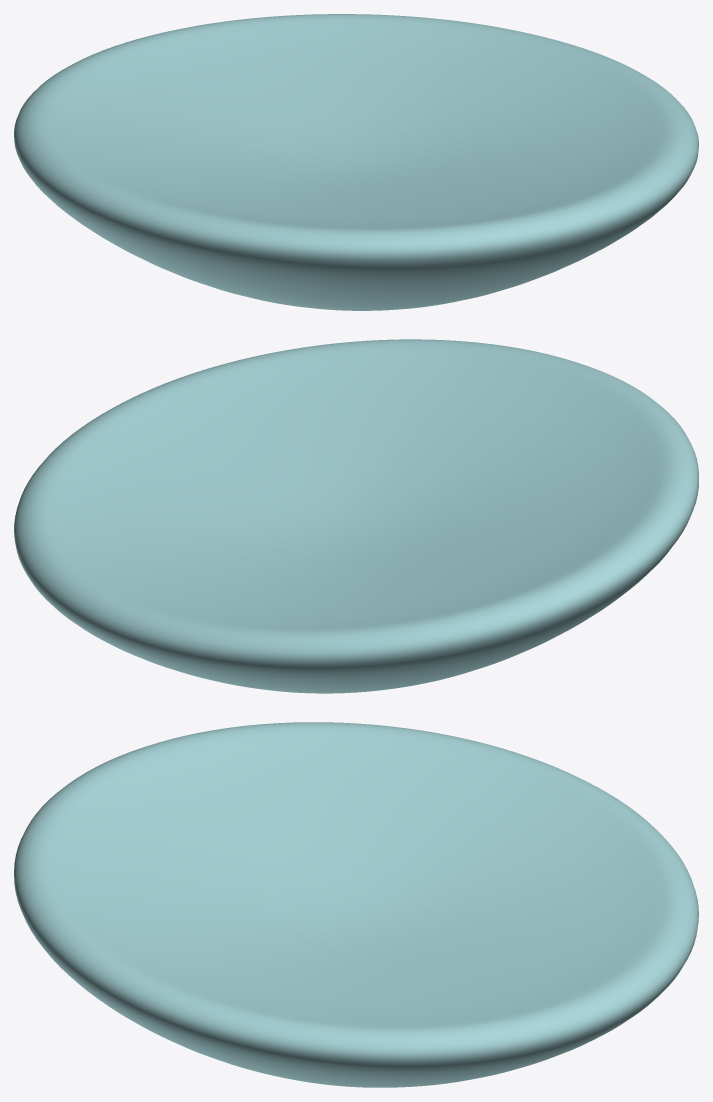
The picture shows the model from 3 angles, top to bottom: view 1: azimuth 30°, elevation 25°; view 2: azimuth 150°, elevation 25°; view 3: azimuth 270°, elevation 25°; orthographic projection.
Visible parts, largest first — view 1: 右侧眼前房; view 2: 右侧眼前房; view 3: 右侧眼前房.
Boxes of the visible parts, x1,y1,x2,y2 form: 右侧眼前房: (14, 14, 698, 310); 右侧眼前房: (14, 339, 698, 693); 右侧眼前房: (14, 722, 698, 1087).
Bounding box in the file's own units: 0.0188 × 0.00553 × 0.0188.
